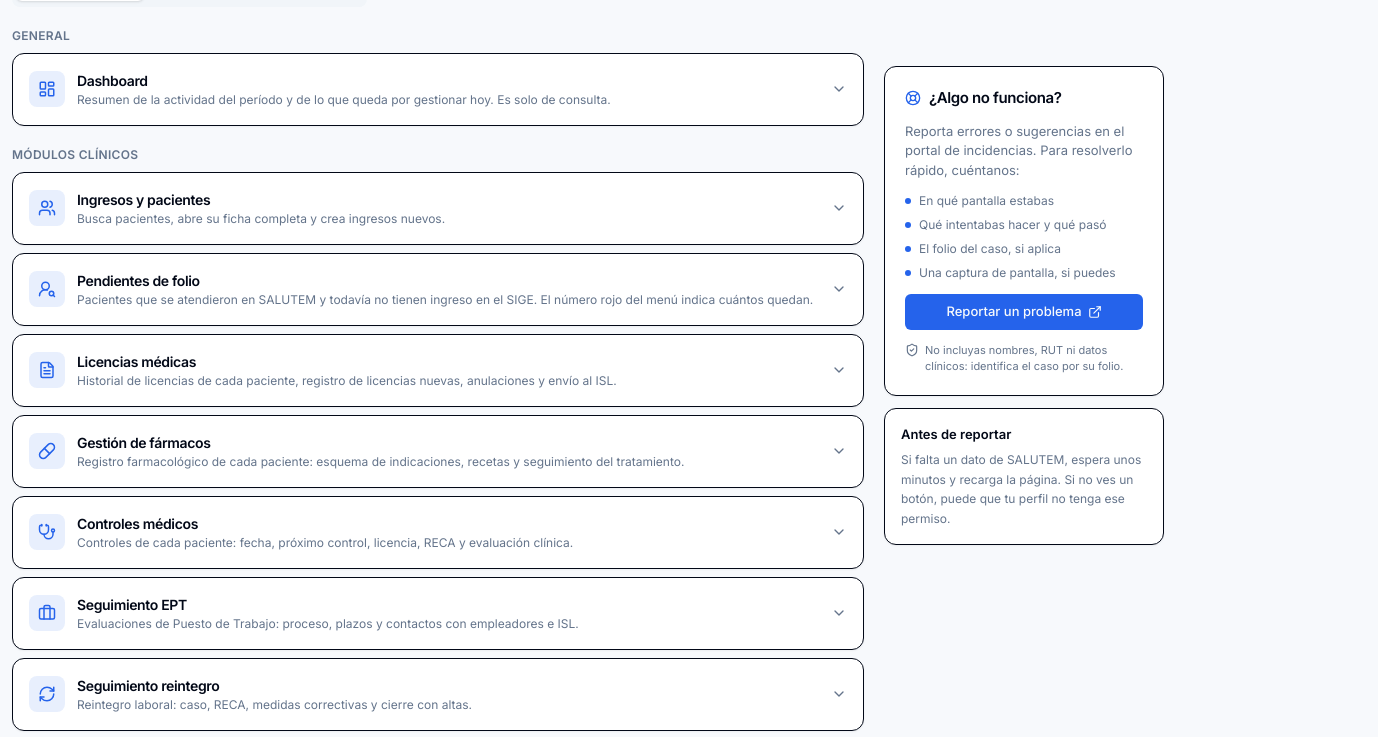
Test: AyudaPage (COMP-2609-01) › al abrir una guía muestra los pasos, las etiquetas y el enlace a la pantalla
The image size is (1378, 737).
(page scrolled)
Click the button "Licencias médicas": [438, 370] box [13,335,863,406]
(page scrolled)
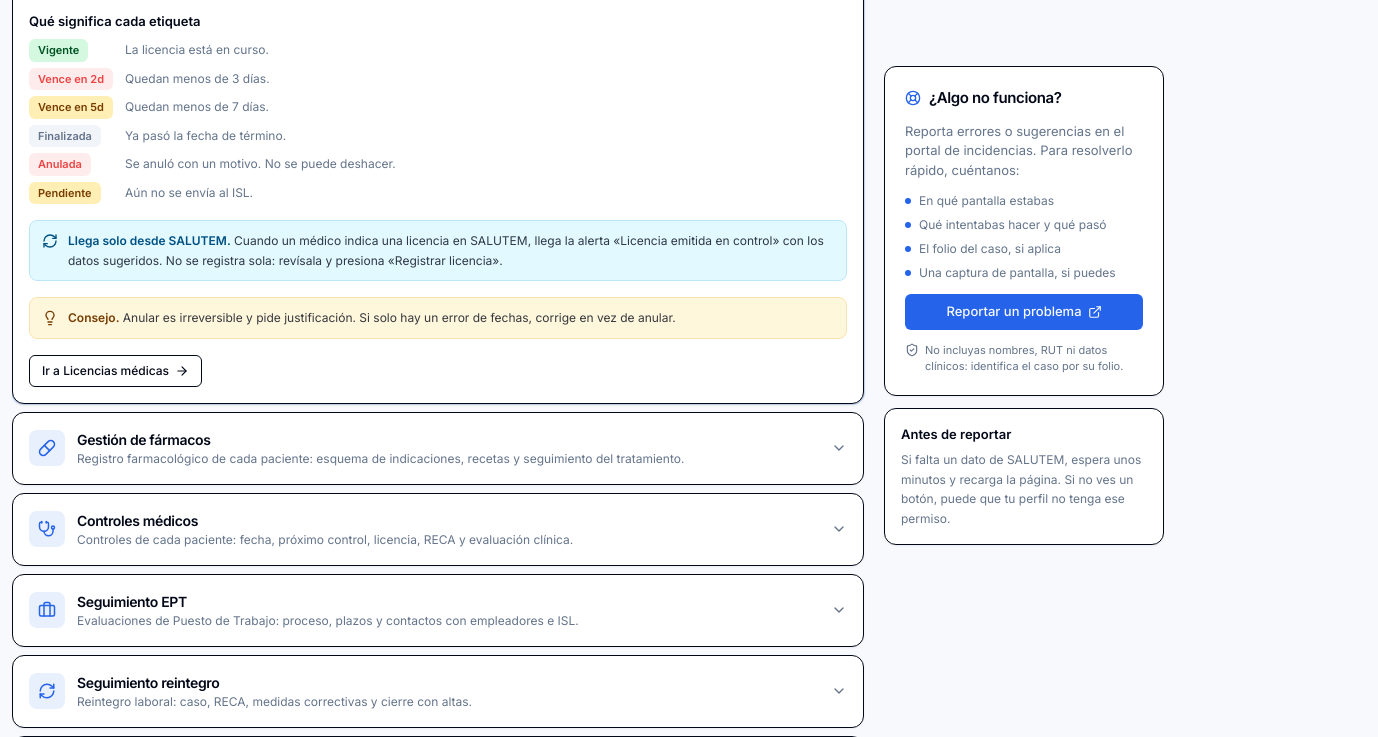
Expected: the text "Anulada" is shown, [29,153,91,176]
Expected: the text "Llega solo desde SALUTEM." is shown, [68,233,231,248]
